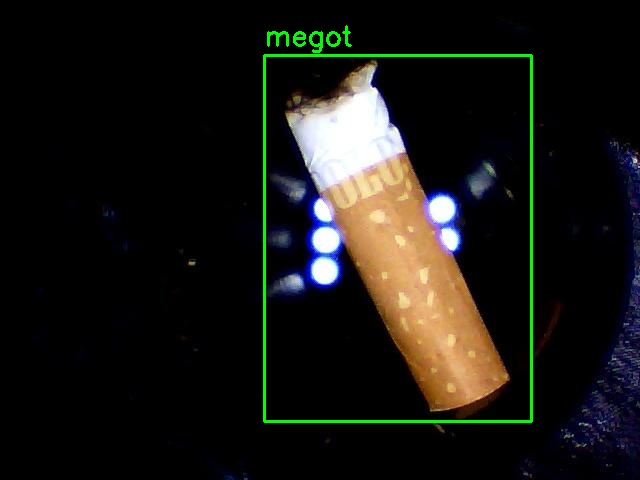megot: (264, 55, 531, 421)
